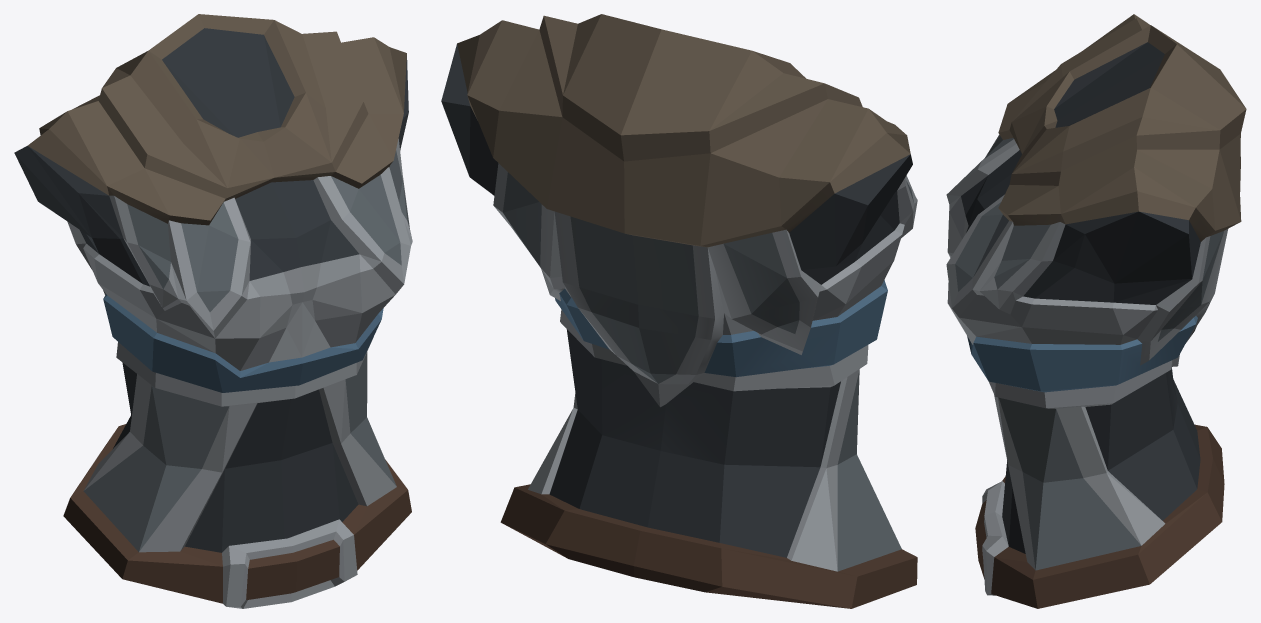
Rendered from Chr_Torso_Female_15_Static.fbx.
3 views of the same model, side by side, from view 1: azimuth 30°, elevation 25°; view 2: azimuth 150°, elevation 25°; view 3: azimuth 270°, elevation 25° (orthographic). The views are drawn at different scales.
Visible parts, largest first — view 1: Chr_Torso_Female_15_Static; view 2: Chr_Torso_Female_15_Static; view 3: Chr_Torso_Female_15_Static.
Boxes of the visible parts, left/top/right/bottom form: Chr_Torso_Female_15_Static: left=14, top=14, right=412, bottom=608; Chr_Torso_Female_15_Static: left=441, top=14, right=917, bottom=608; Chr_Torso_Female_15_Static: left=946, top=14, right=1246, bottom=608.
Size of the model in its own units: 0.5172 by 0.6772 by 0.3477.
